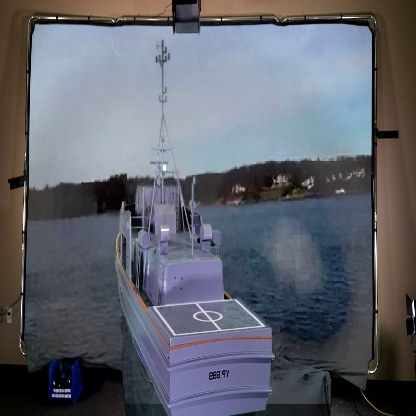YP689: (110, 41, 277, 416)
